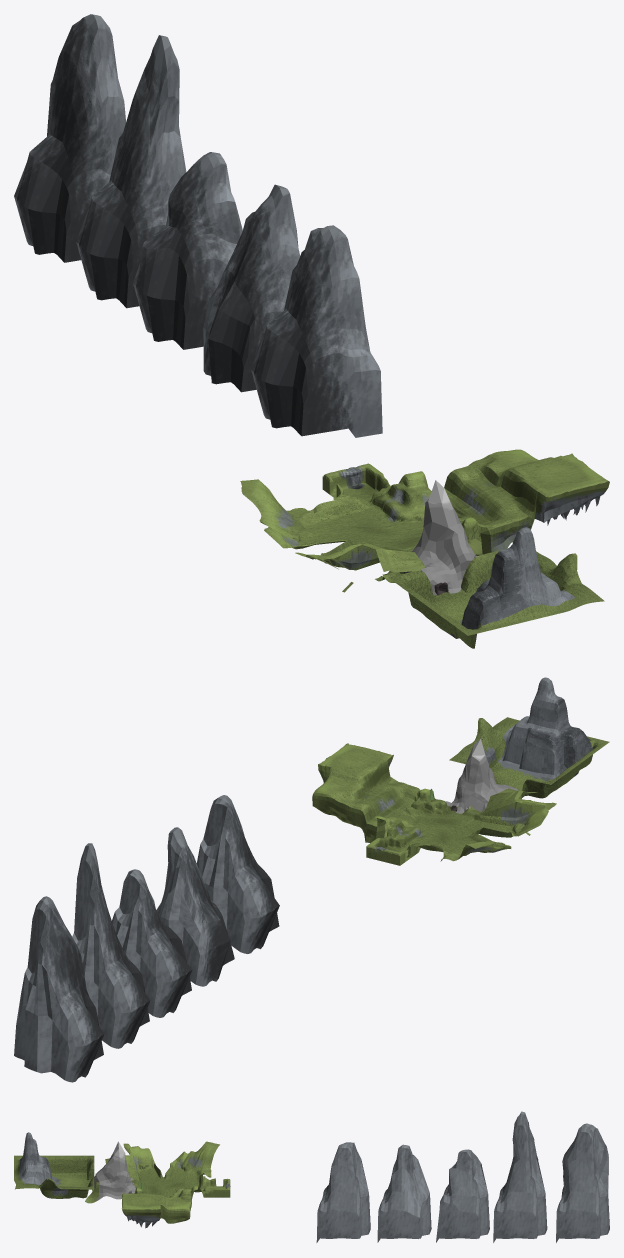
File: lando.glb
3 renders of one model, top to bottom at view 1: azimuth 30°, elevation 25°; view 2: azimuth 150°, elevation 25°; view 3: azimuth 270°, elevation 25°, orthographic. The views are drawn at different scales.
Visible parts, largest first — view 1: Plane.005, Cube.022, Cube.025, Cube.024, Cube.023, Cube.001, mountainClimb, Plane.002; view 2: Plane.005, Cube.025, mountainClimb, Cube.024, Cube.022, Cube.023, Cube.001, Plane.002; view 3: Plane.005, Cube.025, Cube.024, Cube.022, Cube.001, Cube.023, mountainClimb, Plane.002.
Part boxes in pixels (x1=…): Plane.005: x1=240, y1=449, x2=609, y2=592; Cube.022: x1=251, y1=225, x2=382, y2=437; Cube.025: x1=14, y1=14, x2=125, y2=262; Cube.024: x1=76, y1=35, x2=186, y2=308; Cube.023: x1=133, y1=152, x2=242, y2=349; Cube.001: x1=203, y1=184, x2=299, y2=392; mountainClimb: x1=388, y1=527, x2=604, y2=648; Plane.002: x1=292, y1=480, x2=477, y2=595; Plane.005: x1=312, y1=743, x2=556, y2=865; Cube.025: x1=14, y1=896, x2=104, y2=1082; mountainClimb: x1=449, y1=677, x2=609, y2=798; Cube.024: x1=72, y1=843, x2=150, y2=1048; Cube.022: x1=196, y1=795, x2=279, y2=953; Cube.023: x1=112, y1=869, x2=192, y2=1017; Cube.001: x1=156, y1=827, x2=234, y2=986; Plane.002: x1=445, y1=738, x2=518, y2=813; Plane.005: x1=85, y1=1141, x2=230, y2=1228; Cube.025: x1=556, y1=1123, x2=609, y2=1242; Cube.024: x1=493, y1=1111, x2=547, y2=1242; Cube.022: x1=316, y1=1142, x2=370, y2=1242; Cube.001: x1=377, y1=1144, x2=431, y2=1242; Cube.023: x1=436, y1=1149, x2=489, y2=1242; mountainClimb: x1=14, y1=1132, x2=94, y2=1198; Plane.002: x1=93, y1=1141, x2=202, y2=1200.
Size of the model in its own units: 824 by 689 by 2916.
8 materials, 7 textured.
